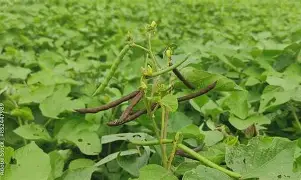crops: (0, 10, 293, 171)
